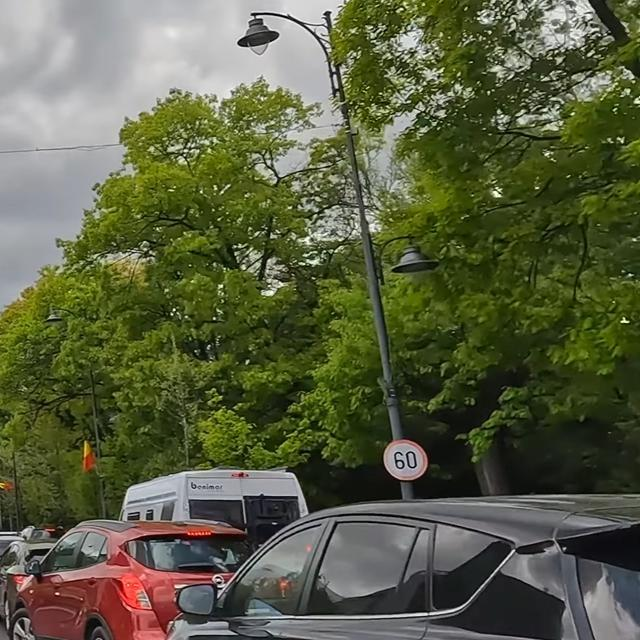forb_speed_over_60: (382, 438, 428, 480)
